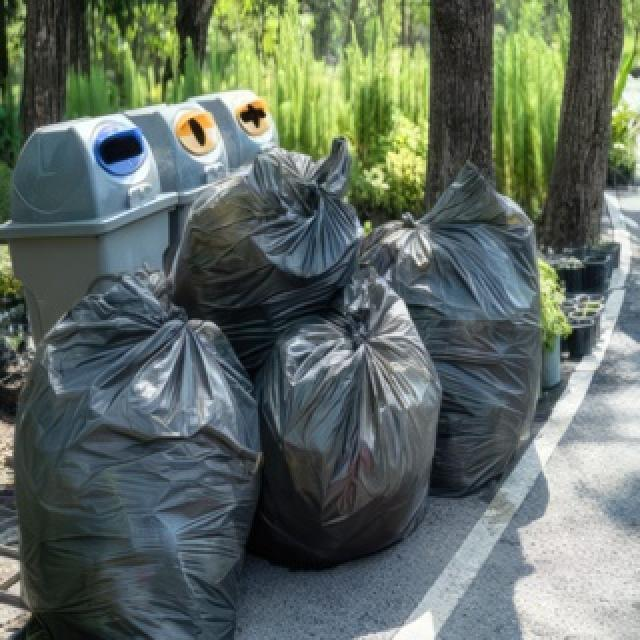high trash: (16, 140, 540, 639)
